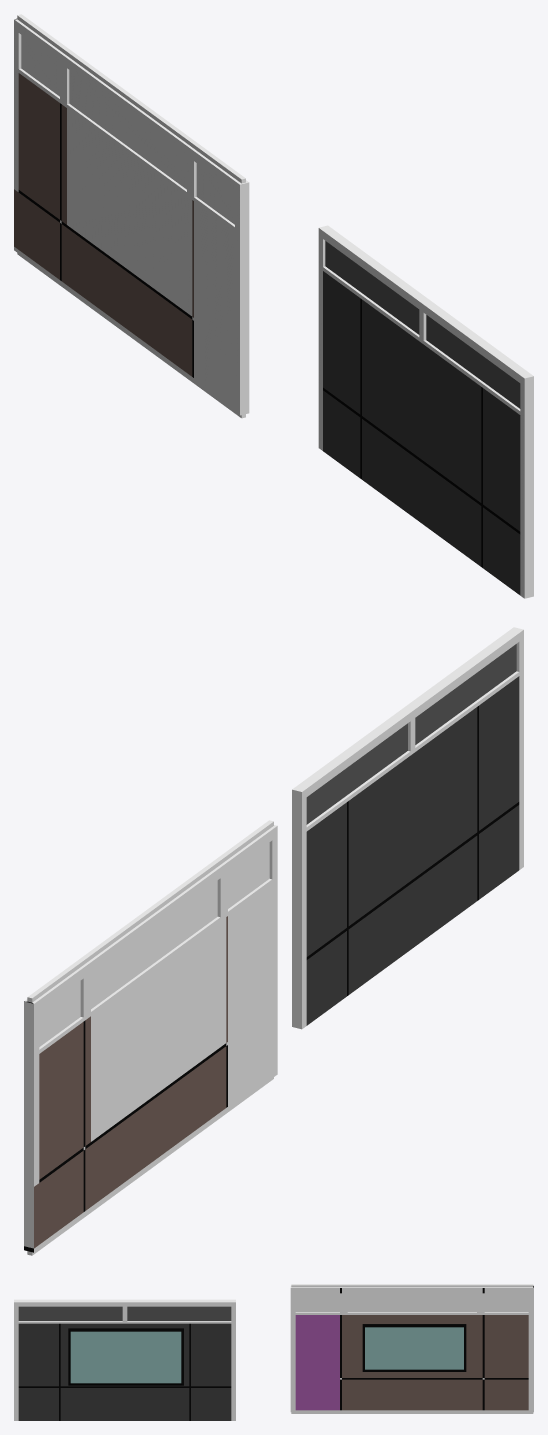
File: Wall_2.glb
The picture shows the model from 3 angles, top to bottom: view 1: azimuth 30°, elevation 25°; view 2: azimuth 150°, elevation 25°; view 3: azimuth 270°, elevation 25°; orthographic projection. The views are drawn at different scales.
Parts seen in each view (by area): view 1: Back_Piece, Back_Piece_V2; view 2: Back_Piece, Back_Piece_V2; view 3: Back_Piece, Back_Piece_V2, TV_V2, TV.
Boxes of the visible parts, x1,y1,x2,y2 form: Back_Piece: (14,14,249,418); Back_Piece_V2: (318,225,533,598); Back_Piece: (24,820,277,1255); Back_Piece_V2: (292,627,523,1029); Back_Piece: (290,1284,533,1413); Back_Piece_V2: (14,1299,235,1420); TV_V2: (68,1328,183,1385); TV: (362,1324,466,1371).
Bounding box in the file's own units: 0.2098 × 1.19 × 4.35.
